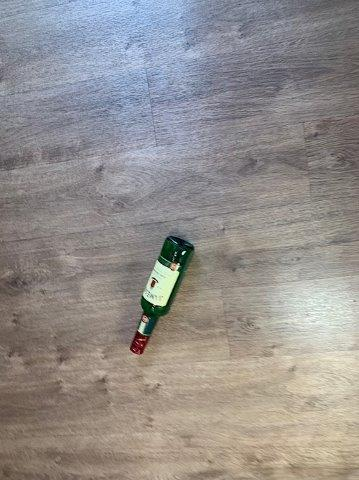botolkaca: (130, 236, 194, 355)
